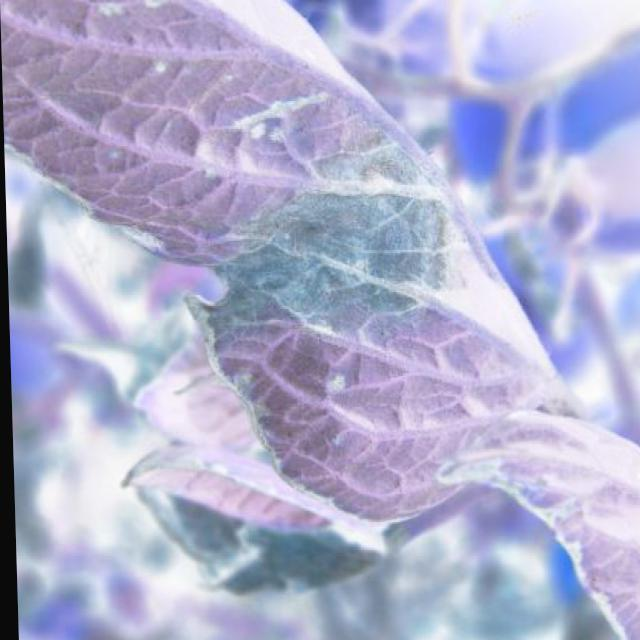Tomato mosaic virus leaf: (1, 1, 639, 602)
